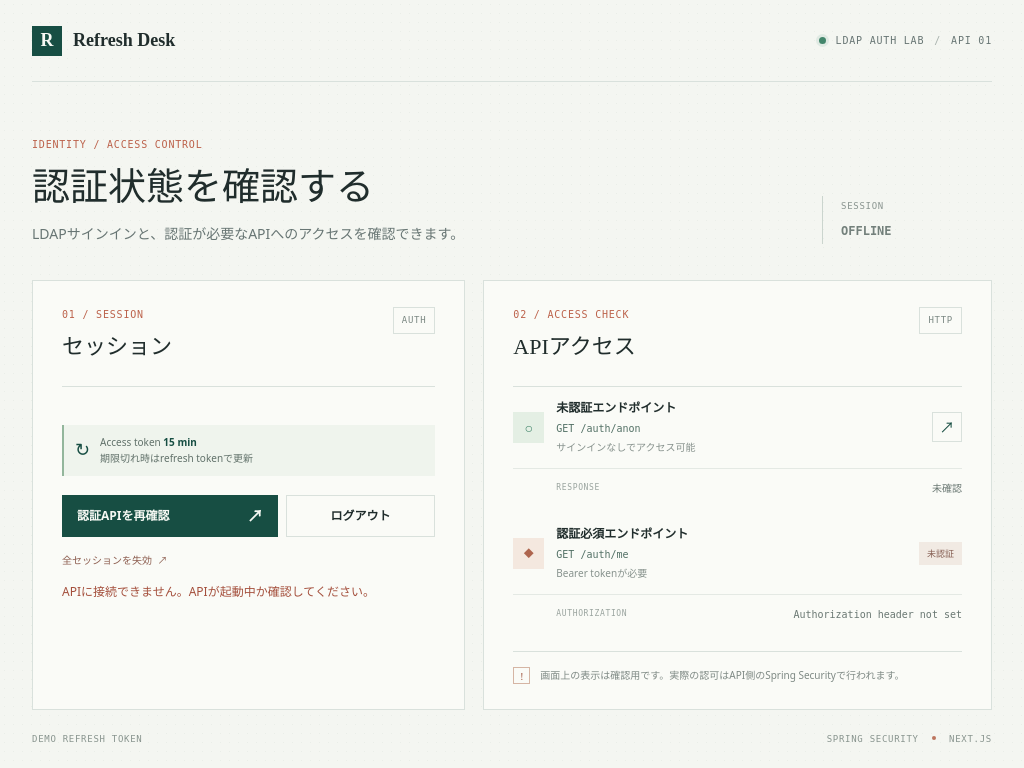
session recovery › allows logout without restored userInfo
Expected: the text "OFFLINE" is shown, [841, 224, 892, 238]
Click the button "ログアウト": click(361, 516) [286, 495, 435, 537]
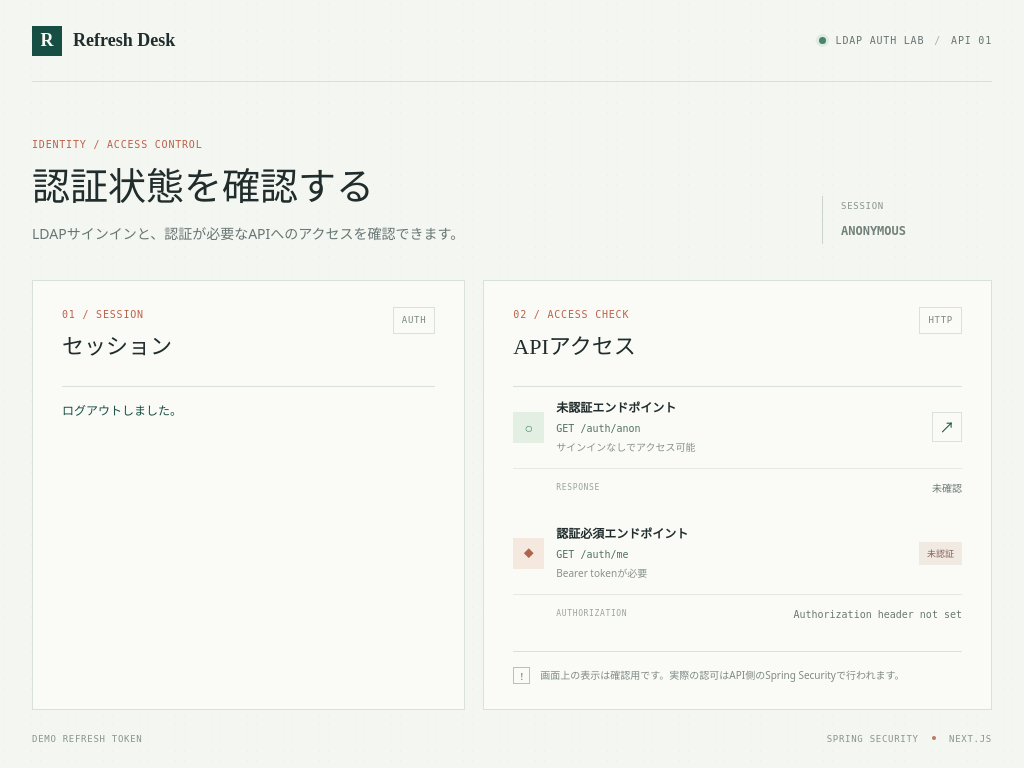
Expected: the text "ANONYMOUS" is shown, [841, 224, 906, 238]
